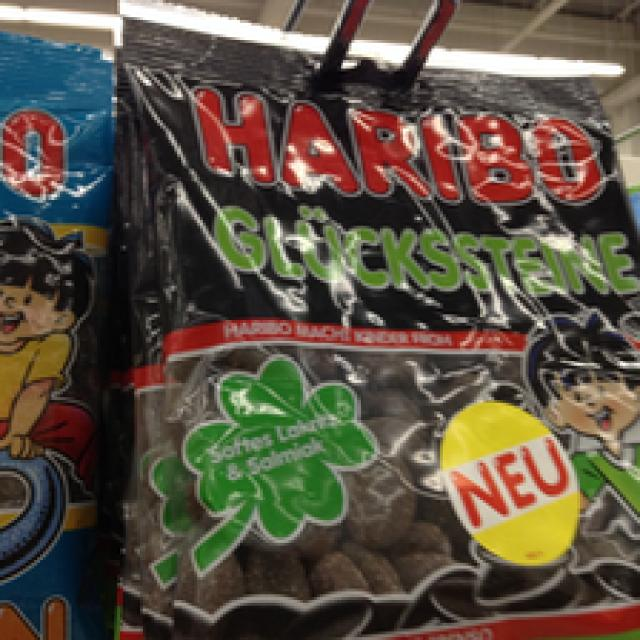groceries: (117, 6, 637, 634)
